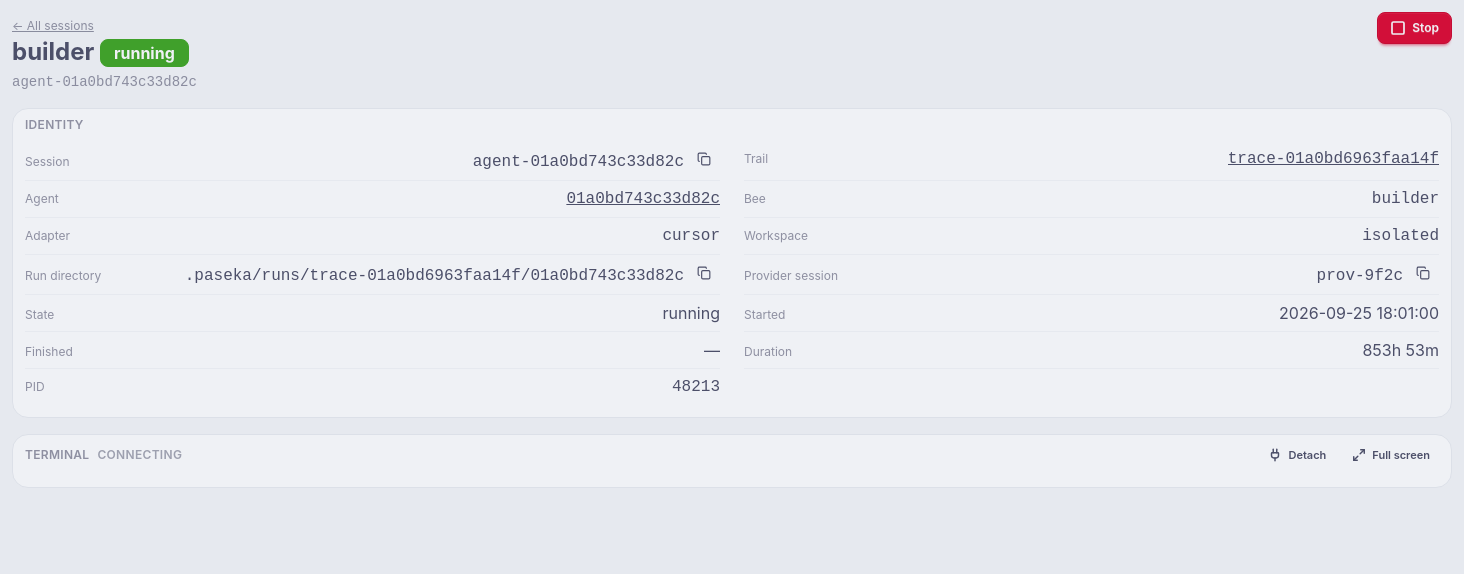
Test: session detail › lets an operator keep a session running when they change their mind
What coordinates should you click on to do the following:
click the button "Stop"
I would click on:
 (1415, 28)
Its box is [1377,12,1452,44].
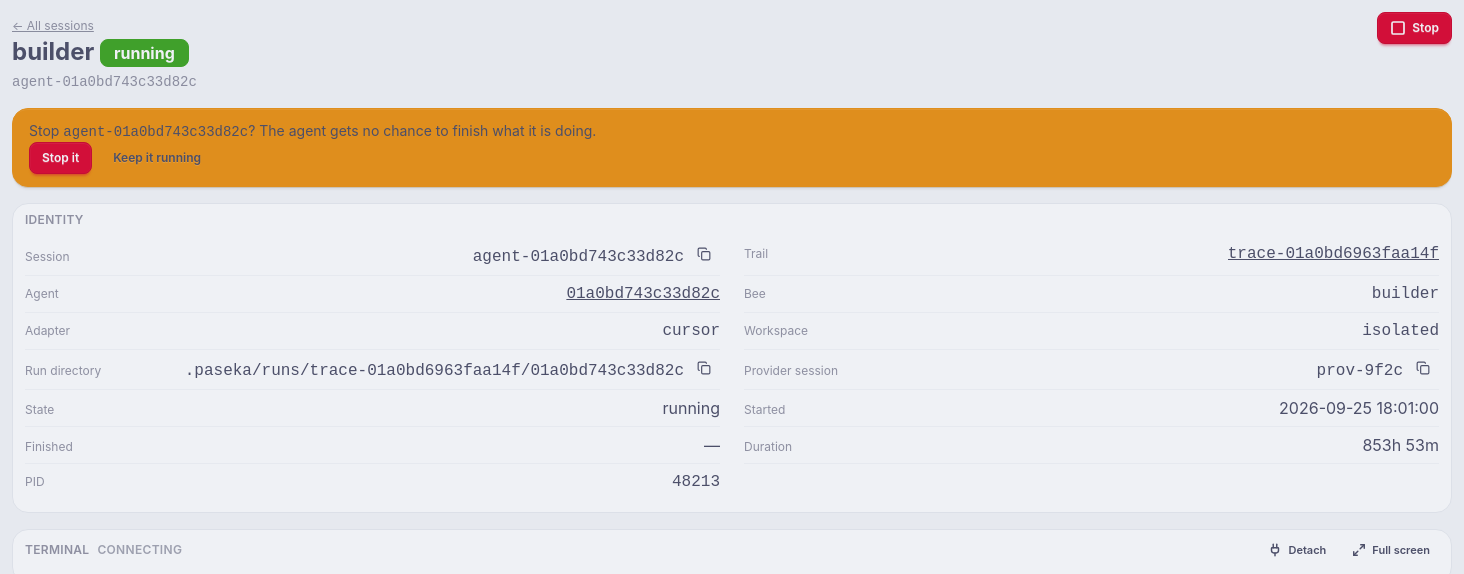
What coordinates should you click on to do the following:
click the button "Keep it running"
I would click on:
 (157, 158)
Its box is [100,142,214,174].
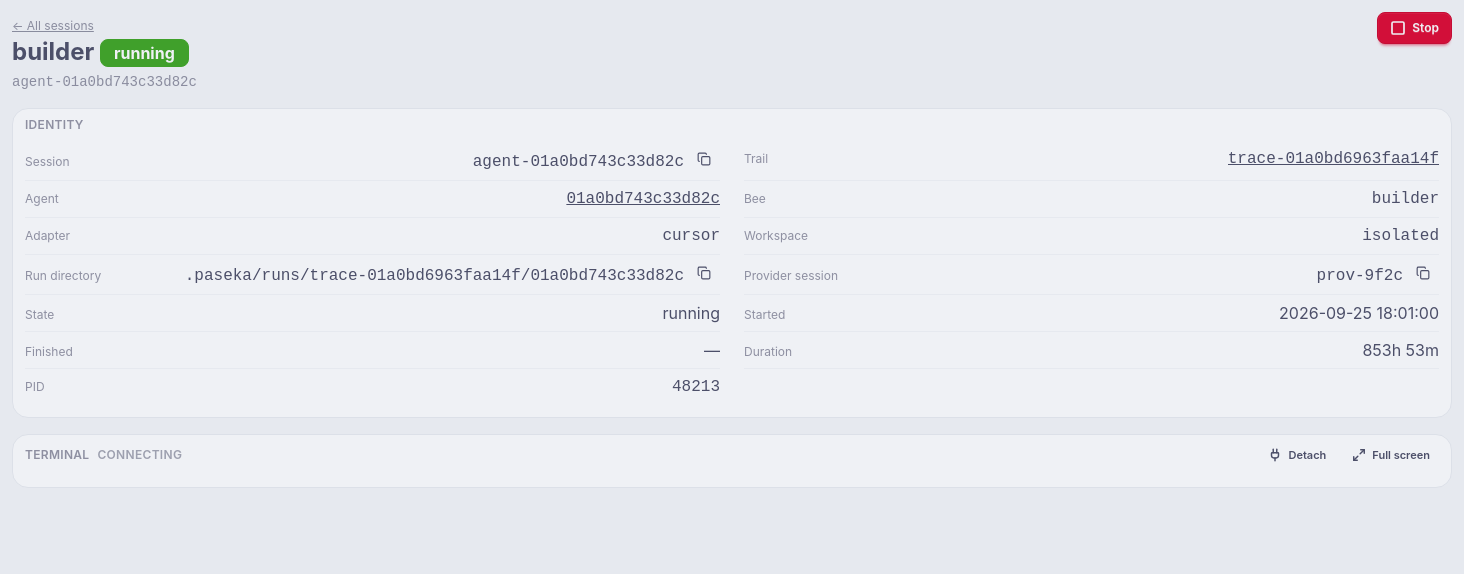
Result: the button "Stop it" is gone
